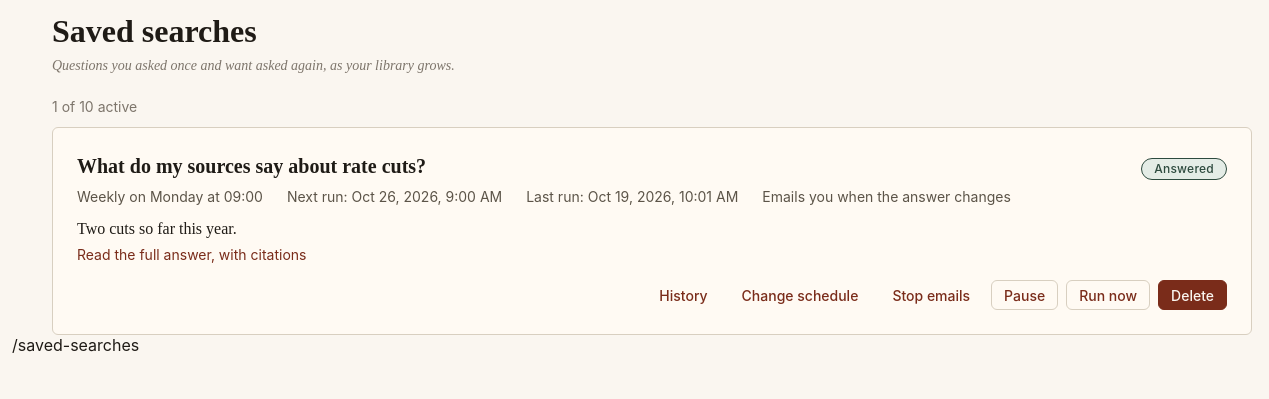
it: run history (S-8.3.3) › stays closed until asked, and History opens it
Click the button "History": (683, 295) left=646, top=280, right=721, bottom=310
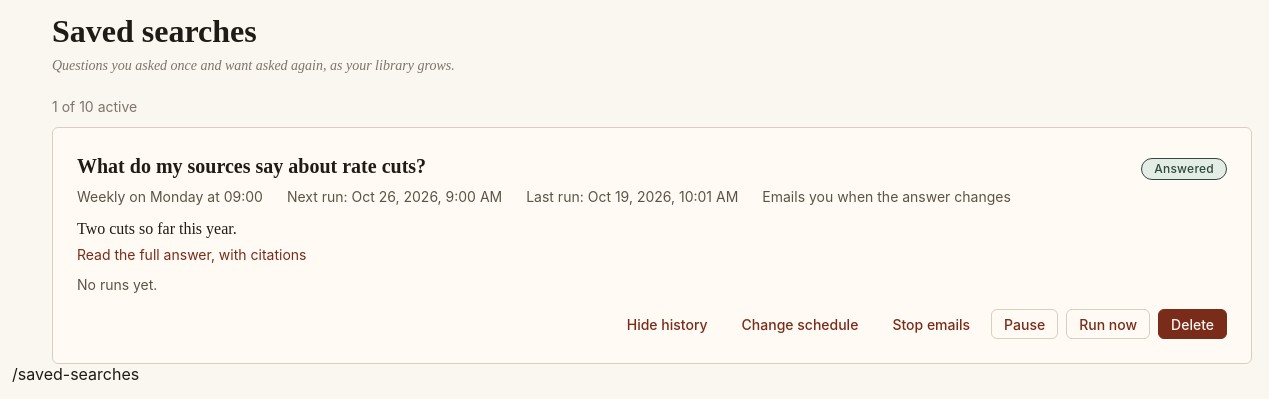
Check: the text "No runs yet." is shown, box left=77, top=276, right=157, bottom=293
